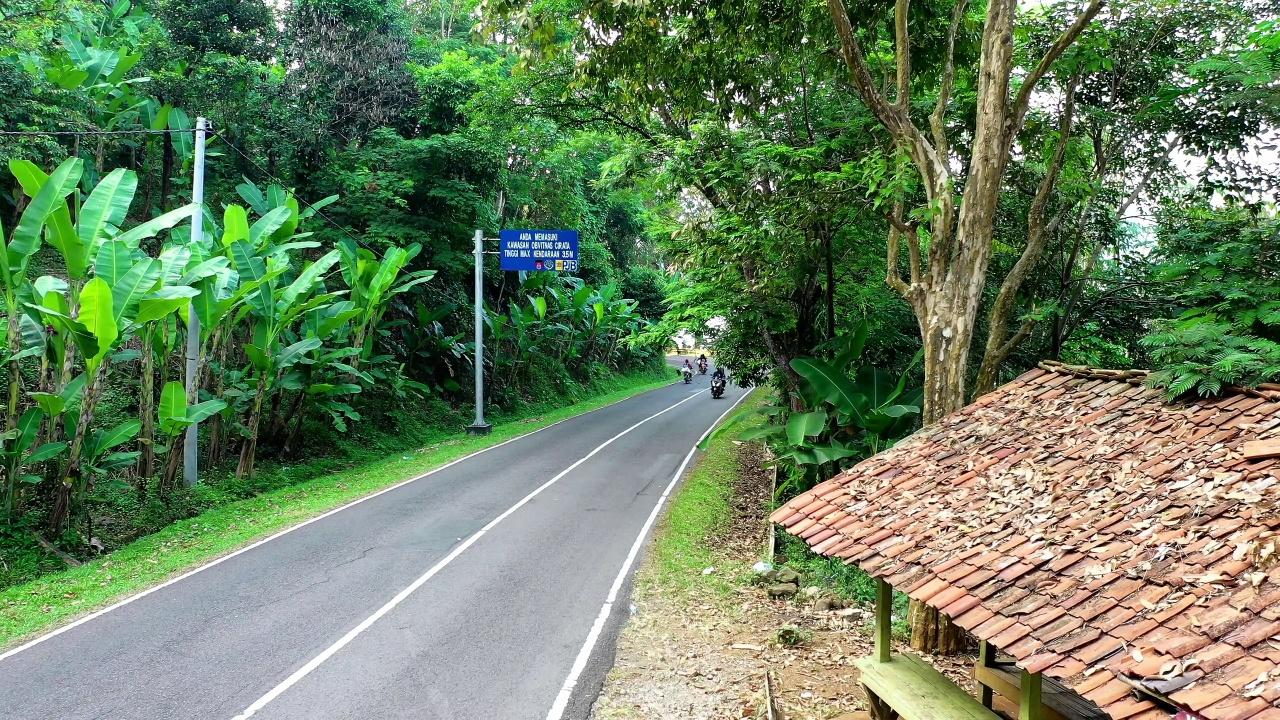Motor: (711, 375, 726, 398), (682, 367, 692, 383), (698, 359, 707, 374)
